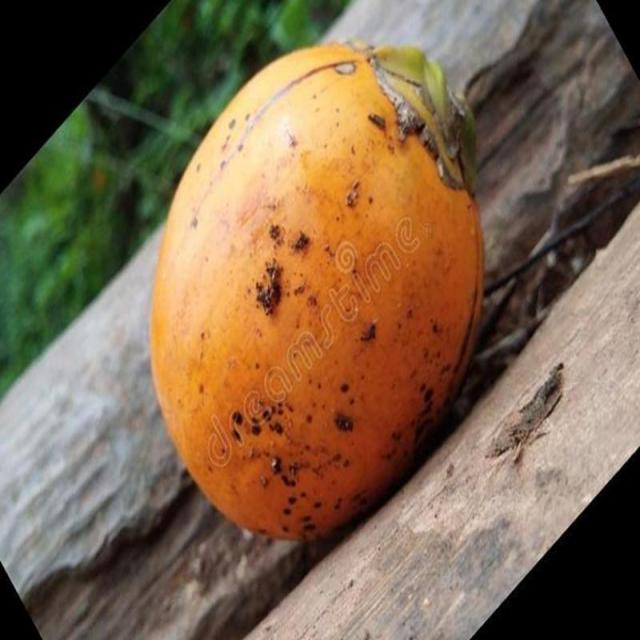good: (147, 42, 485, 546)
